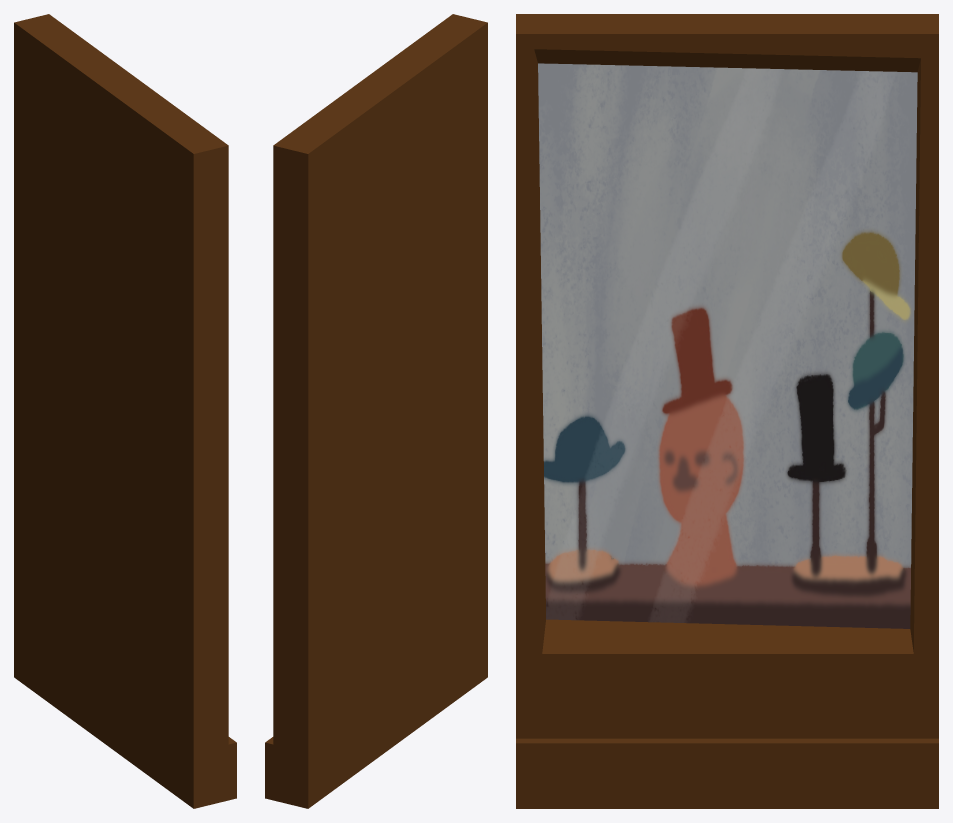
The model's file is BakerWindow1.fbx.
3 renders of one model, left to right at view 1: azimuth 30°, elevation 25°; view 2: azimuth 150°, elevation 25°; view 3: azimuth 270°, elevation 25°, orthographic. The views are drawn at different scales.
Parts seen in each view (by area): view 1: Cube.007; view 2: Cube.007; view 3: Cube.007.
Boxes of the visible parts, x1,y1,x2,y2 form: Cube.007: (14,14,236,808); Cube.007: (265,14,487,808); Cube.007: (516,14,938,808).
Size of the model in its own units: 19.68 by 286 by 142.
